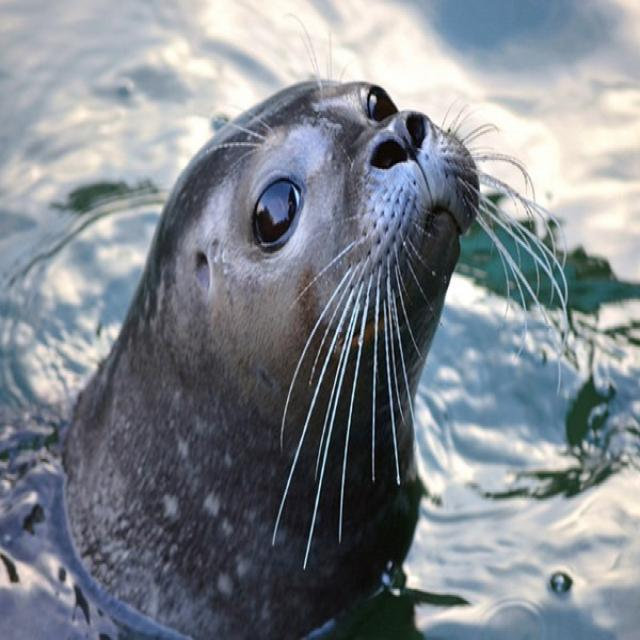WaterDog: (74, 59, 566, 625)
